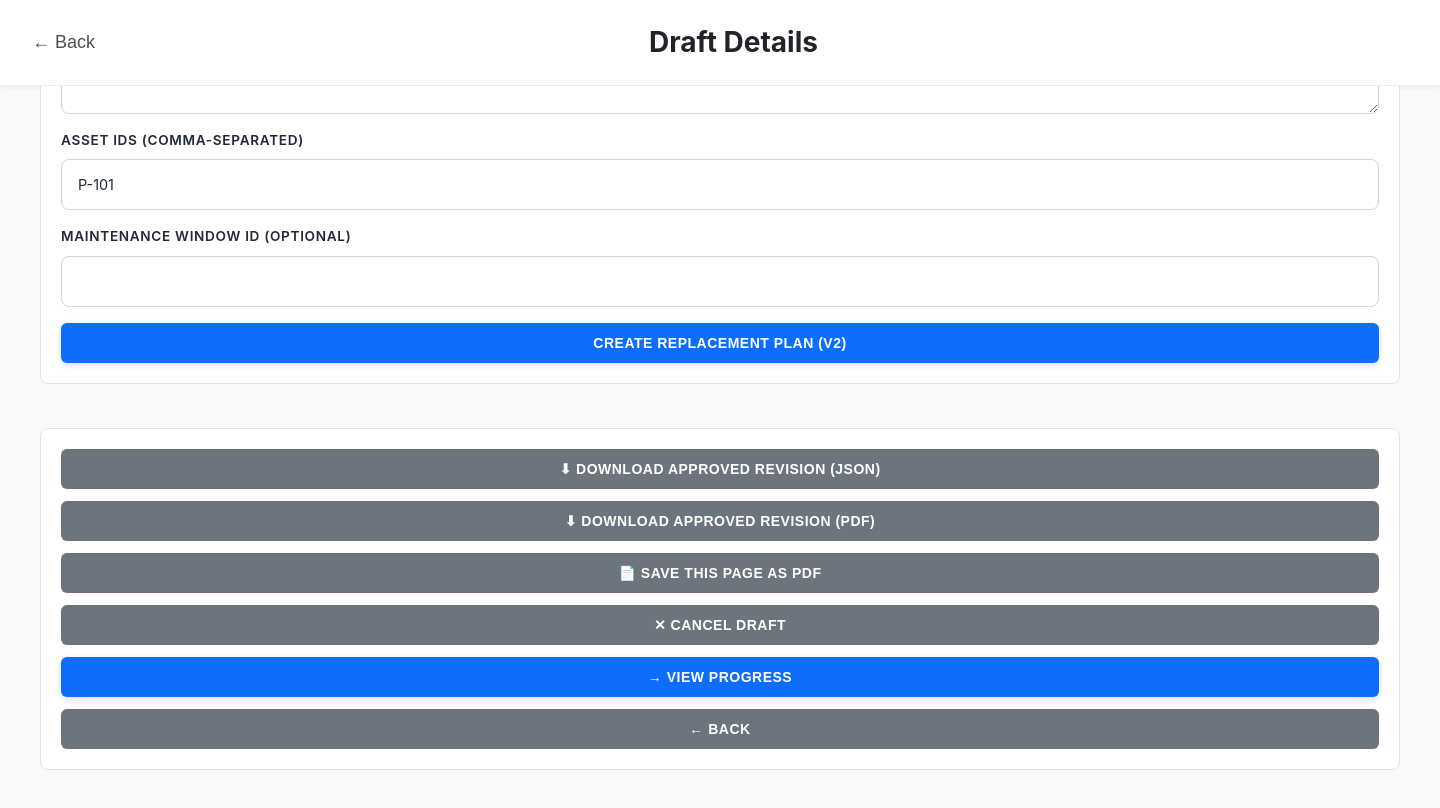
Scenario: DraftDetailScreen draft management › cancels after confirmation, shows the result and the refreshed status and reservations
The width and height of the screenshot is (1440, 808).
(page scrolled)
Click the button "✕ Cancel draft": [720, 625] box [61,605,1379,645]
(page scrolled)
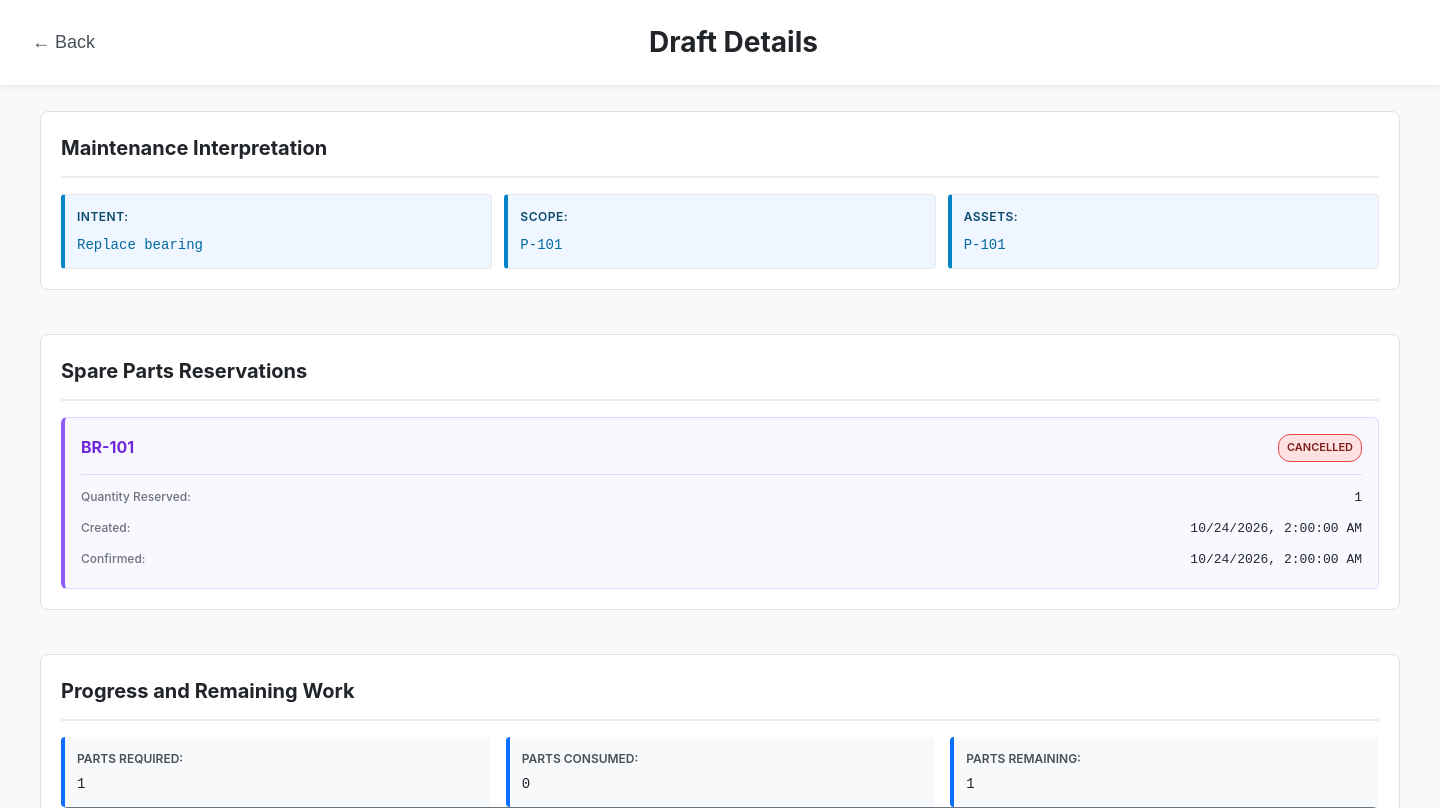
Expected: the text with test id "reservation-status-res-1" reads "Cancelled", [1287,440,1353,454]
Expected: the button "Cancel draft" is gone
